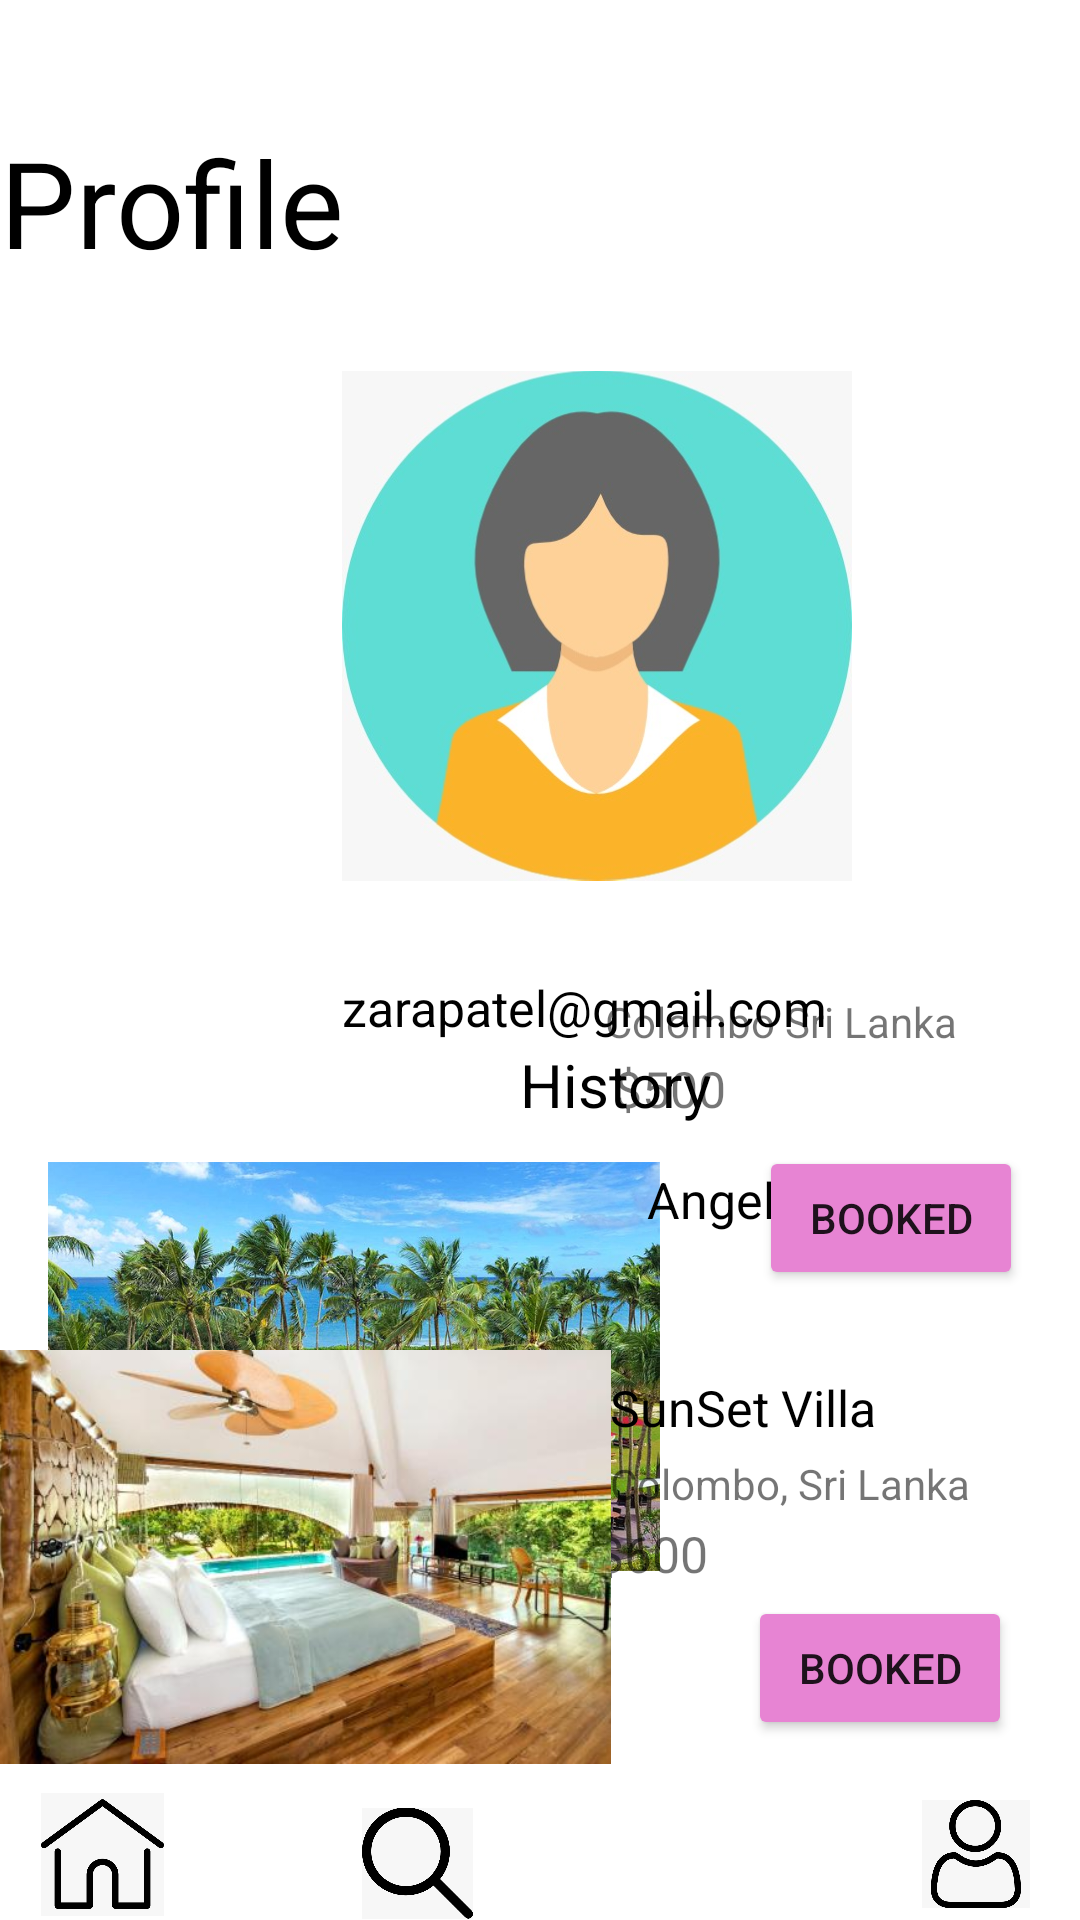

Named icons in this screenshot (1080w x 1920h) and their bounding boxes, (x1, y1, x2, y2):
home: (41, 1799, 164, 1909)
loupe: (362, 1808, 473, 1919)
user: (931, 1800, 1021, 1908)
